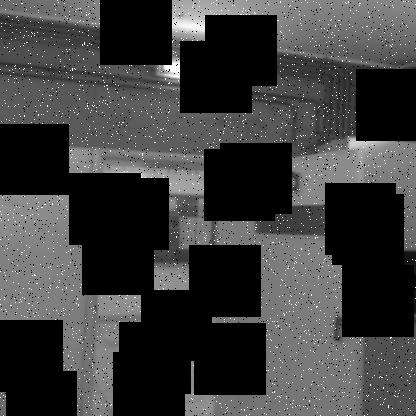Porte: (79, 145, 364, 415)
